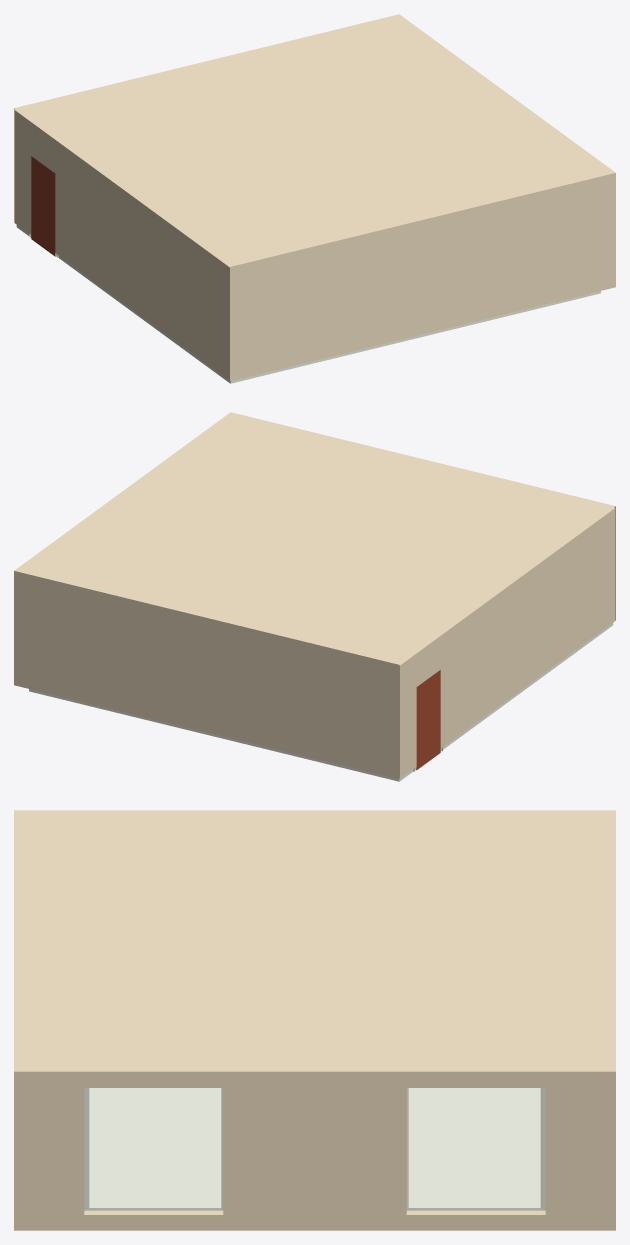
File: BedRoom.fbx
3 renders of one model, top to bottom at view 1: azimuth 30°, elevation 25°; view 2: azimuth 150°, elevation 25°; view 3: azimuth 270°, elevation 25°, orthographic. The views are drawn at different scales.
Visible parts, largest first — view 1: Room, Door; view 2: Room, Door; view 3: Room.
Part boxes in pixels (x1=…): Room: x1=14, y1=14, x2=615, y2=383; Door: x1=31, y1=156, x2=55, y2=256; Room: x1=14, y1=412, x2=615, y2=781; Door: x1=416, y1=670, x2=440, y2=769; Room: x1=14, y1=810, x2=615, y2=1230.
Size of the model in its own units: 3100 by 910 by 3020.
4 materials, 1 textured.
